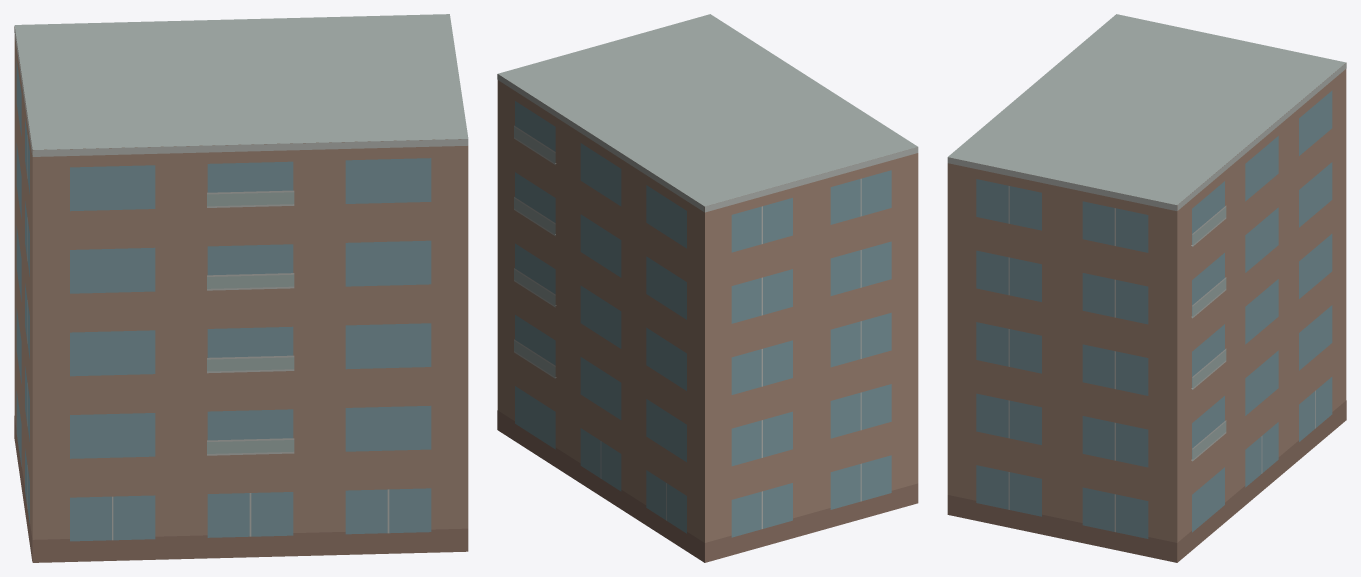
The model's file is survey-upis-32890971.glb.
The picture shows the model from 3 angles, left to right: view 1: azimuth 30°, elevation 25°; view 2: azimuth 150°, elevation 25°; view 3: azimuth 270°, elevation 25°; orthographic projection. The views are drawn at different scales.
Visible parts, largest first — view 1: survey-upis-32890971.tmp; view 2: survey-upis-32890971.tmp; view 3: survey-upis-32890971.tmp.
Part boxes in pixels (x1,y1,x2,y2): survey-upis-32890971.tmp: [14, 14, 468, 562]; survey-upis-32890971.tmp: [497, 14, 918, 562]; survey-upis-32890971.tmp: [947, 14, 1346, 562].
Bounding box in the file's own units: 16.64 × 14.5 × 14.67.
